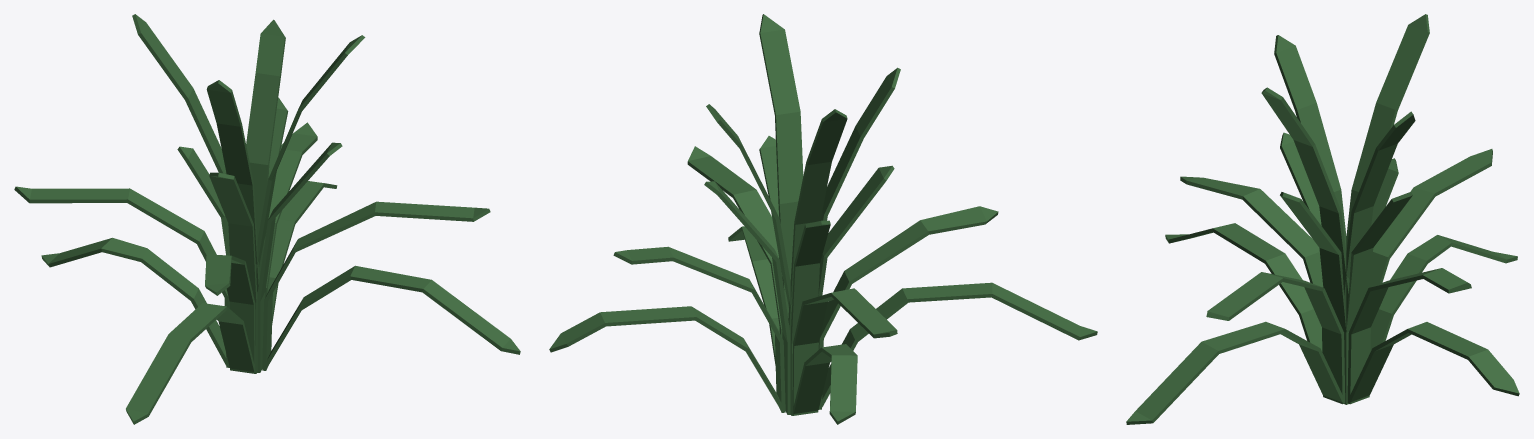
File: fougere.glb
3 renders of one model, left to right at view 1: azimuth 30°, elevation 25°; view 2: azimuth 150°, elevation 25°; view 3: azimuth 270°, elevation 25°, orthographic.
Visible parts, largest first — view 1: fougere; view 2: fougere; view 3: fougere.
Part boxes in pixels (x1,y1,x2,y2): fougere: [14, 14, 520, 424]; fougere: [549, 14, 1097, 424]; fougere: [1126, 14, 1519, 424].
Size of the model in its own units: 0.9815 by 0.85 by 0.8758.
